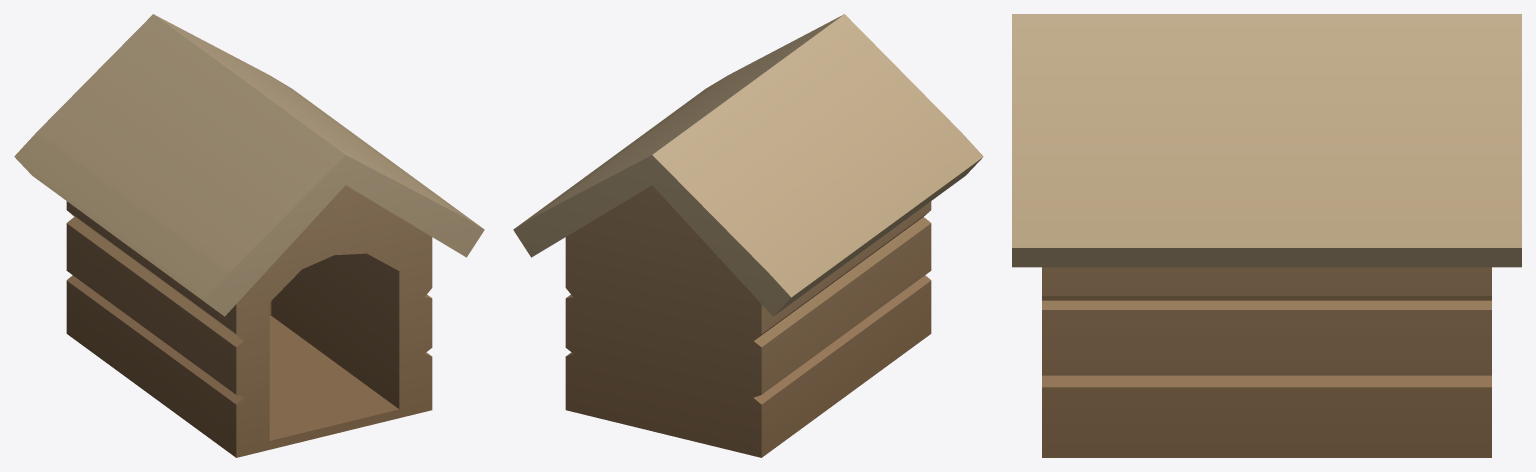
Rendered from Doghouse.fbx.
3 renders of one model, left to right at view 1: azimuth 30°, elevation 25°; view 2: azimuth 150°, elevation 25°; view 3: azimuth 270°, elevation 25°, orthographic. The views are drawn at different scales.
Visible parts, largest first — view 1: Dog house; view 2: Dog house; view 3: Dog house.
Part boxes in pixels (x1,y1,x2,y2): Dog house: [14, 14, 484, 457]; Dog house: [513, 14, 983, 457]; Dog house: [1012, 14, 1521, 457].
Size of the model in its own units: 284 by 280 by 340.
